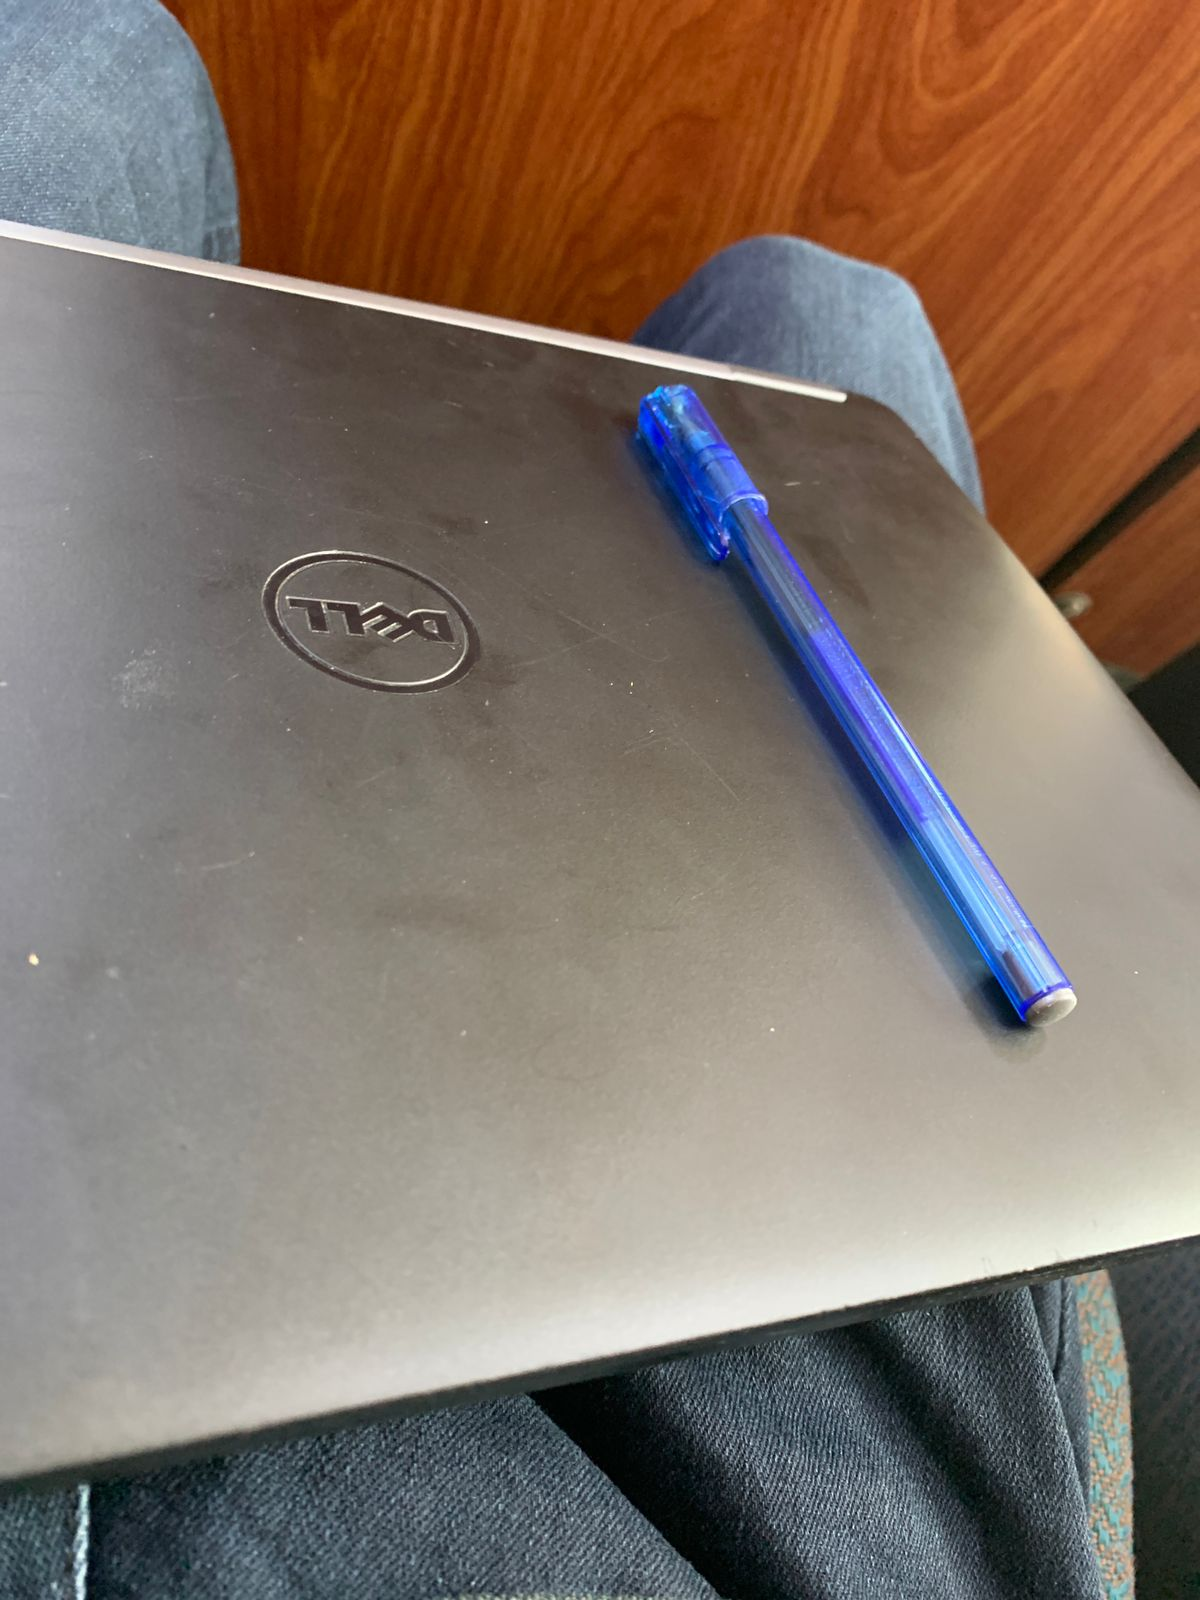pen: (590, 333, 1082, 1104)
